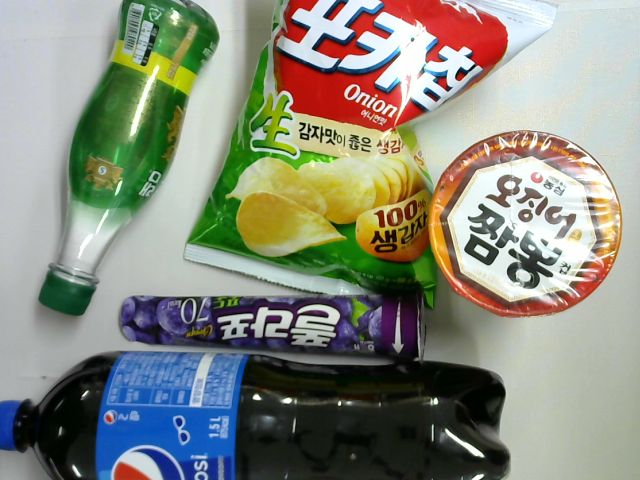Ojjam: (424, 128, 630, 319)
Pepsi_Cola_1.5L: (1, 347, 512, 480)
Pocachip_Onion: (182, 1, 561, 312)
Polapo_Grape: (115, 287, 430, 362)
Seagram_Lemon_Carbonated_Water: (36, 1, 219, 321)
